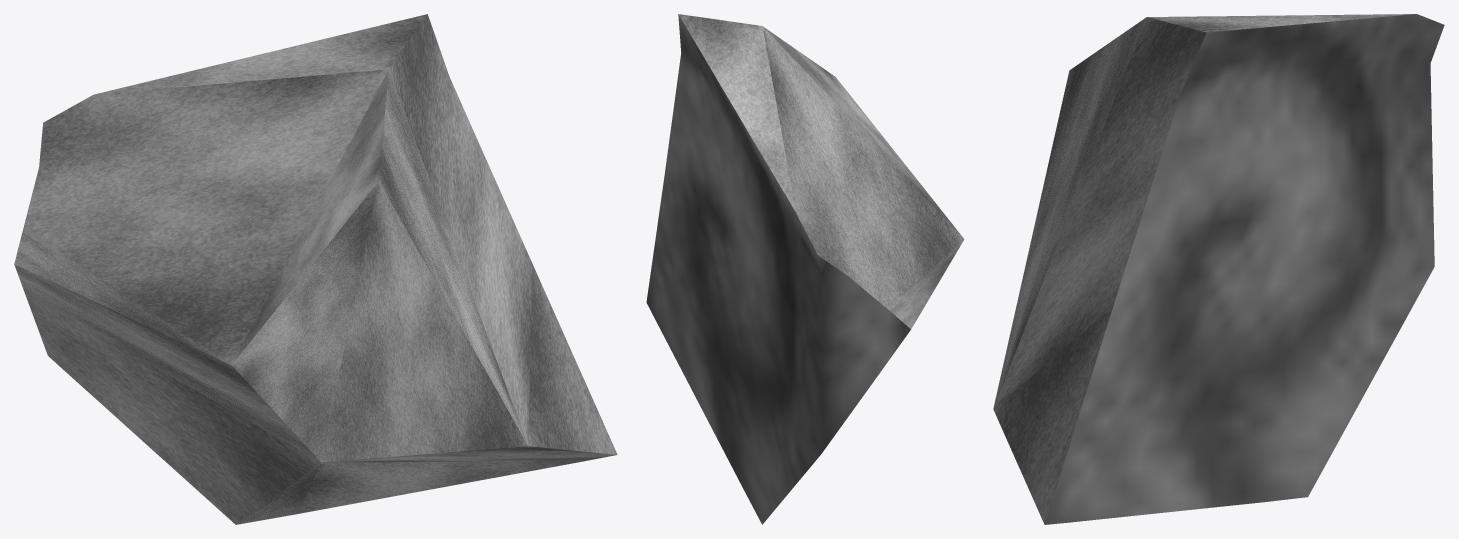
File: tail_cell_013.fbx
The picture shows the model from 3 angles, left to right: view 1: azimuth 30°, elevation 25°; view 2: azimuth 150°, elevation 25°; view 3: azimuth 270°, elevation 25°; orthographic projection. The views are drawn at different scales.
Visible parts, largest first — view 1: tail_cell.013; view 2: tail_cell.013; view 3: tail_cell.013.
Part boxes in pixels (x1,y1,x2,y2): tail_cell.013: (14, 14, 617, 524); tail_cell.013: (646, 14, 964, 524); tail_cell.013: (993, 14, 1444, 524).
Size of the model in its own units: 41.47 by 44.78 by 34.03.
